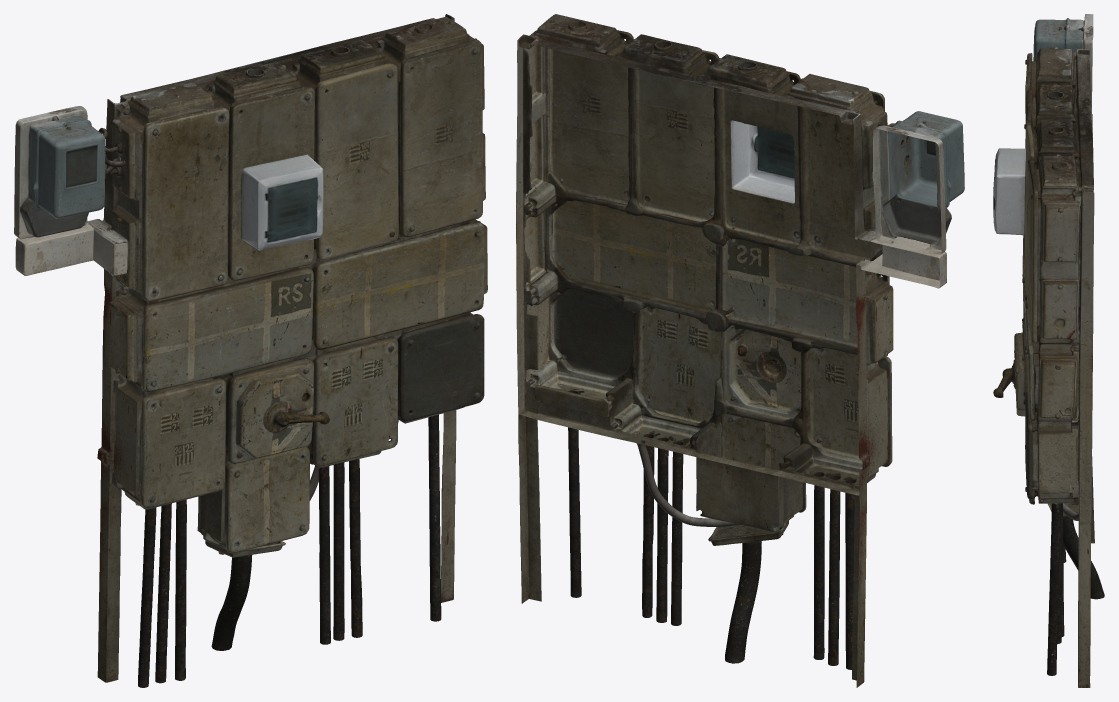
File: electric_box_31.glb
The picture shows the model from 3 angles, left to right: view 1: azimuth 30°, elevation 25°; view 2: azimuth 150°, elevation 25°; view 3: azimuth 270°, elevation 25°; orthographic projection. The views are drawn at different scales.
Parts seen in each view (by area): view 1: Object_2; view 2: Object_2; view 3: Object_2.
Part boxes in pixels (box(x1,y1,x2,y2)): Object_2: box(14, 14, 487, 687); Object_2: box(516, 14, 964, 687); Object_2: box(993, 14, 1104, 687).
Bounding box in the file's own units: 1.29 × 1.63 × 0.3252.
Materials: 1 (1 with a texture image).
